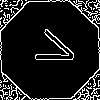V: (25, 25, 80, 72)
